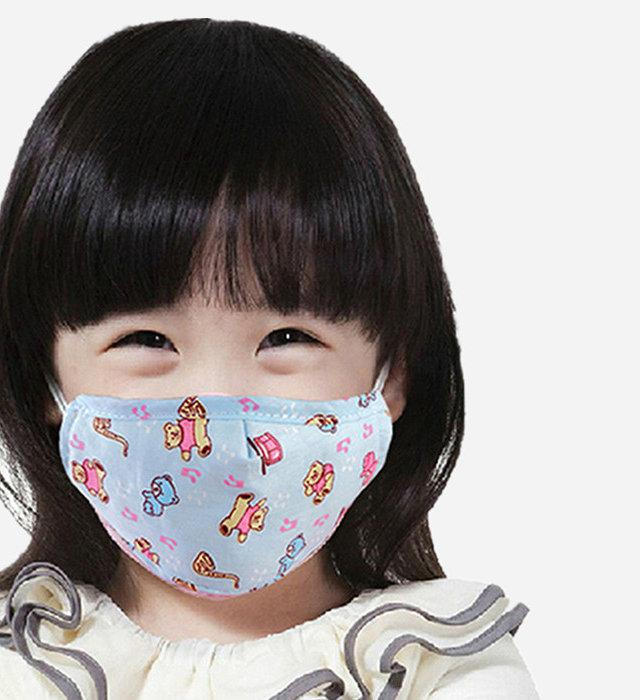OK: (60, 259, 398, 597)
